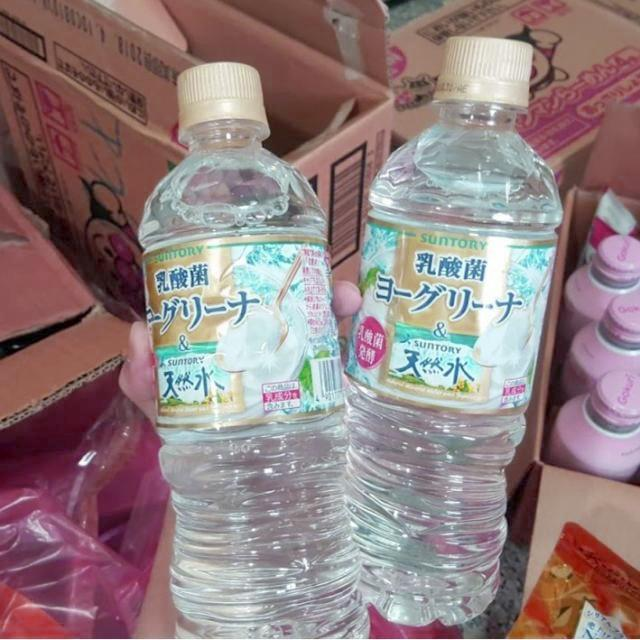bottle: (136, 61, 371, 640), (343, 37, 563, 627)
